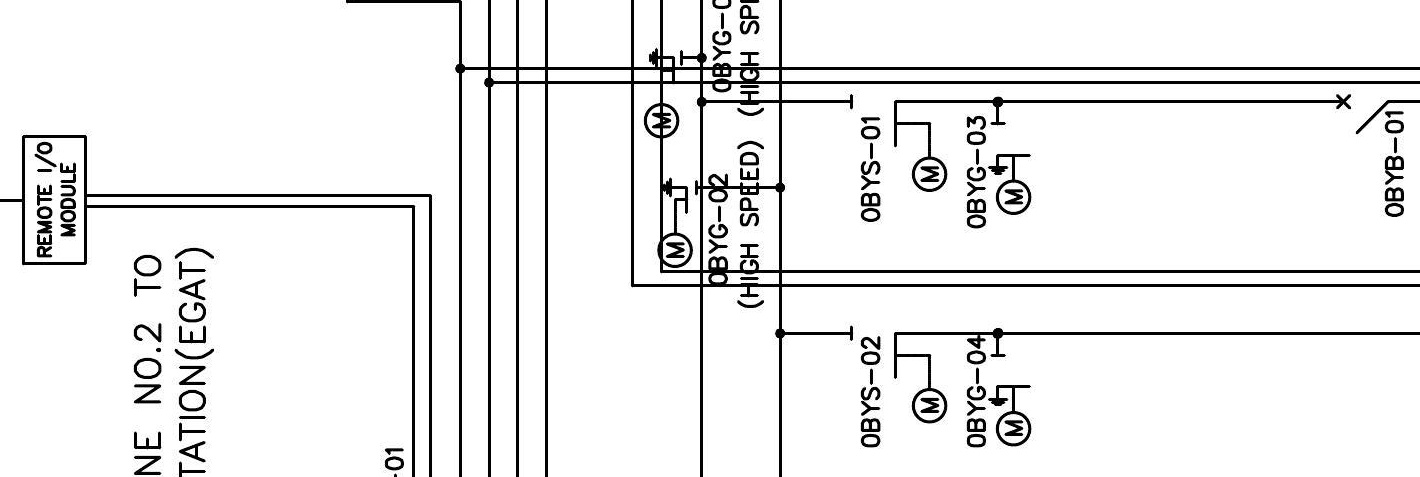115_1way_ds_w_motor: (850, 93, 948, 193), (850, 325, 948, 424)
115_breaker: (1335, 93, 1389, 135)
115_gs_w_motor: (987, 354, 1032, 448), (987, 122, 1032, 216), (656, 176, 698, 269), (643, 47, 683, 139)
remote_io_module: (22, 135, 87, 266)
